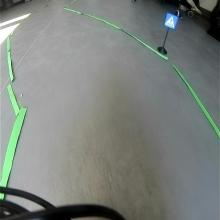crosswalk: (163, 13, 178, 30)
